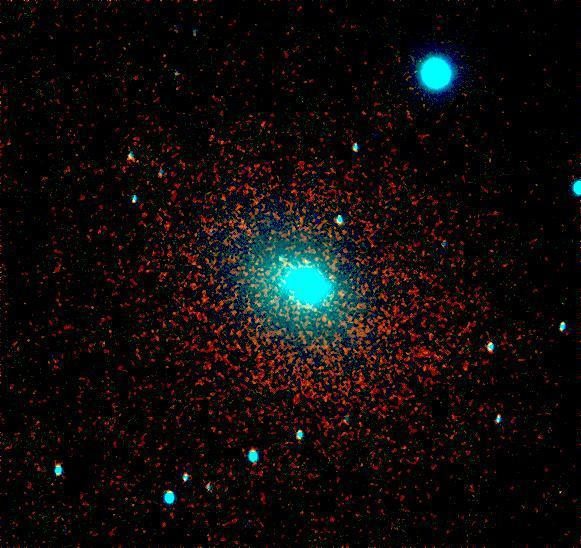star: (299, 293, 329, 323)
